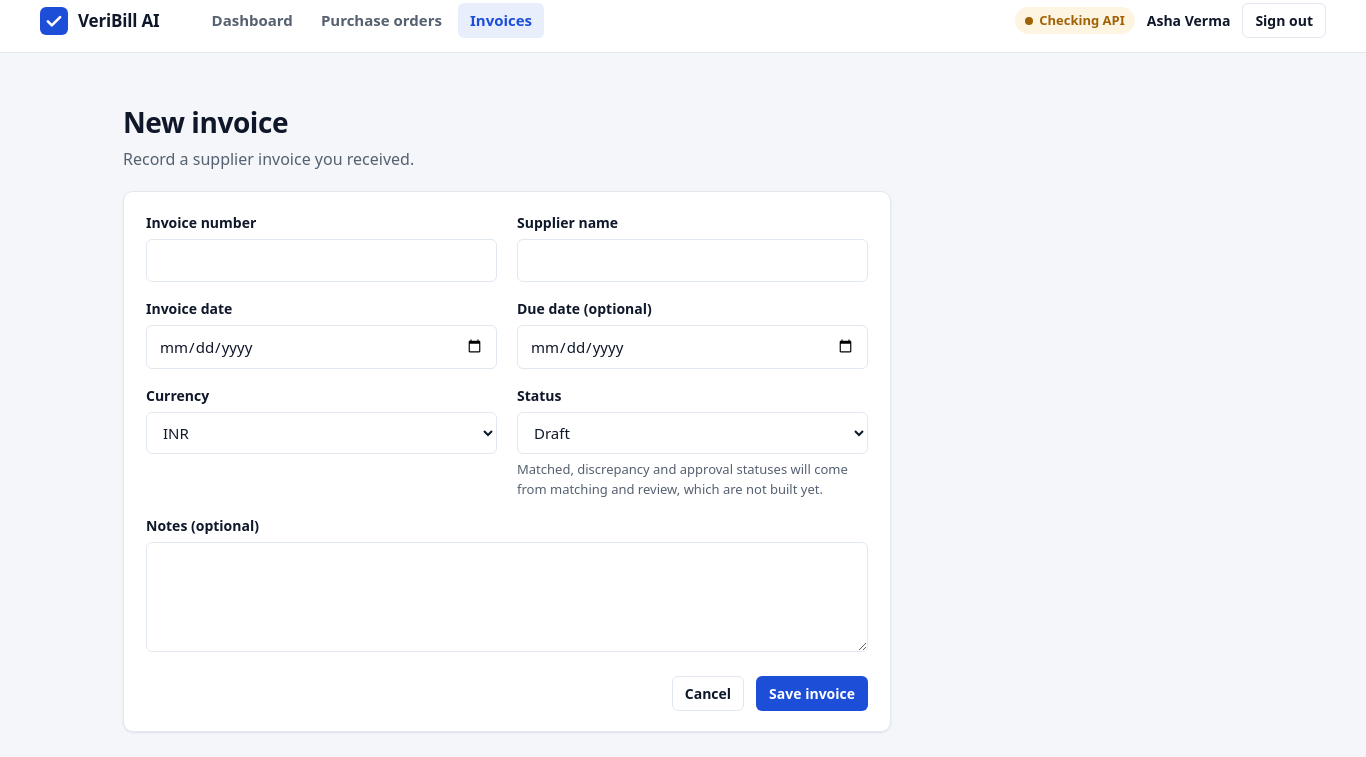
it: NewInvoicePage › saves the invoice and opens it
Expected: the heading "New invoice" is shown, [123,103,288,141]
In the field labelled "Invoice number": (322, 260) [146,239,497,282], type "INV-0042"
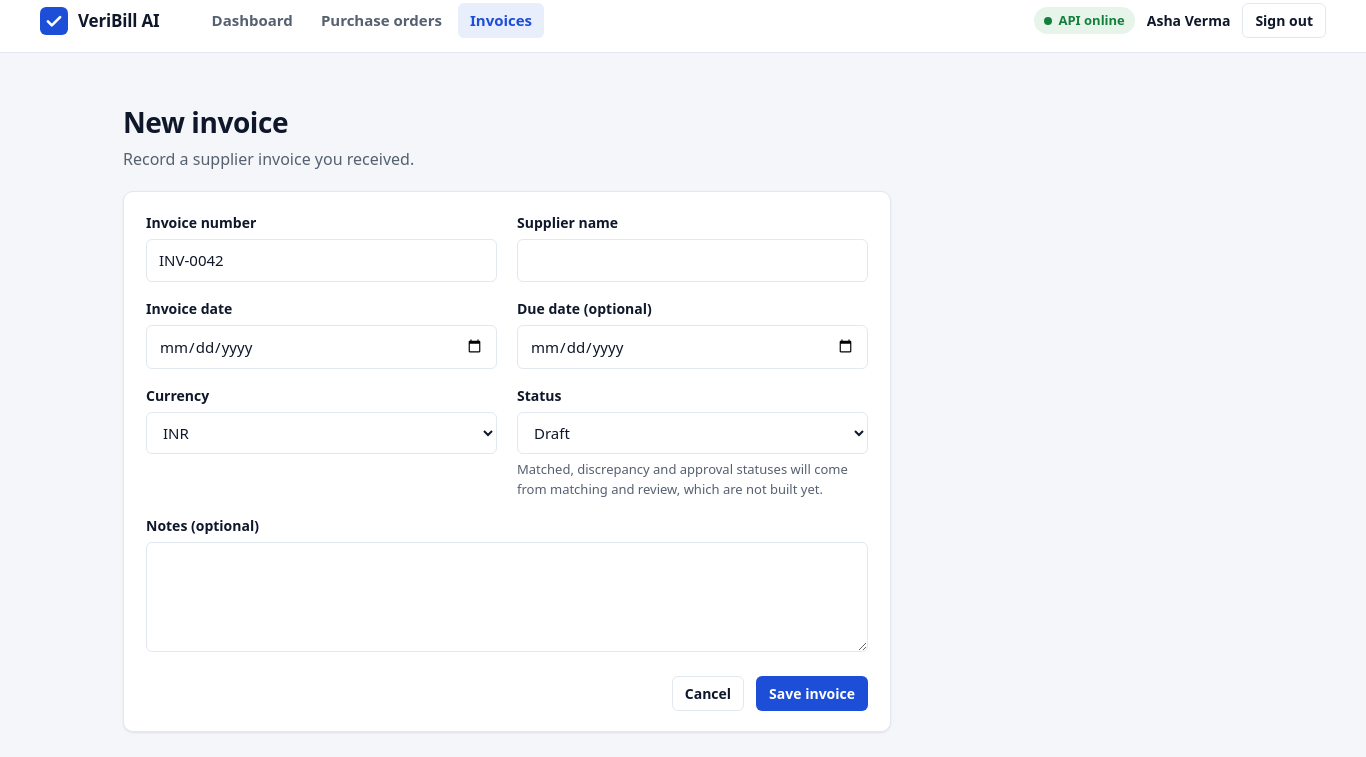
In the field labelled "Supplier name": (692, 260) [517,239,868,282], type "Acme Industrial Supplies"
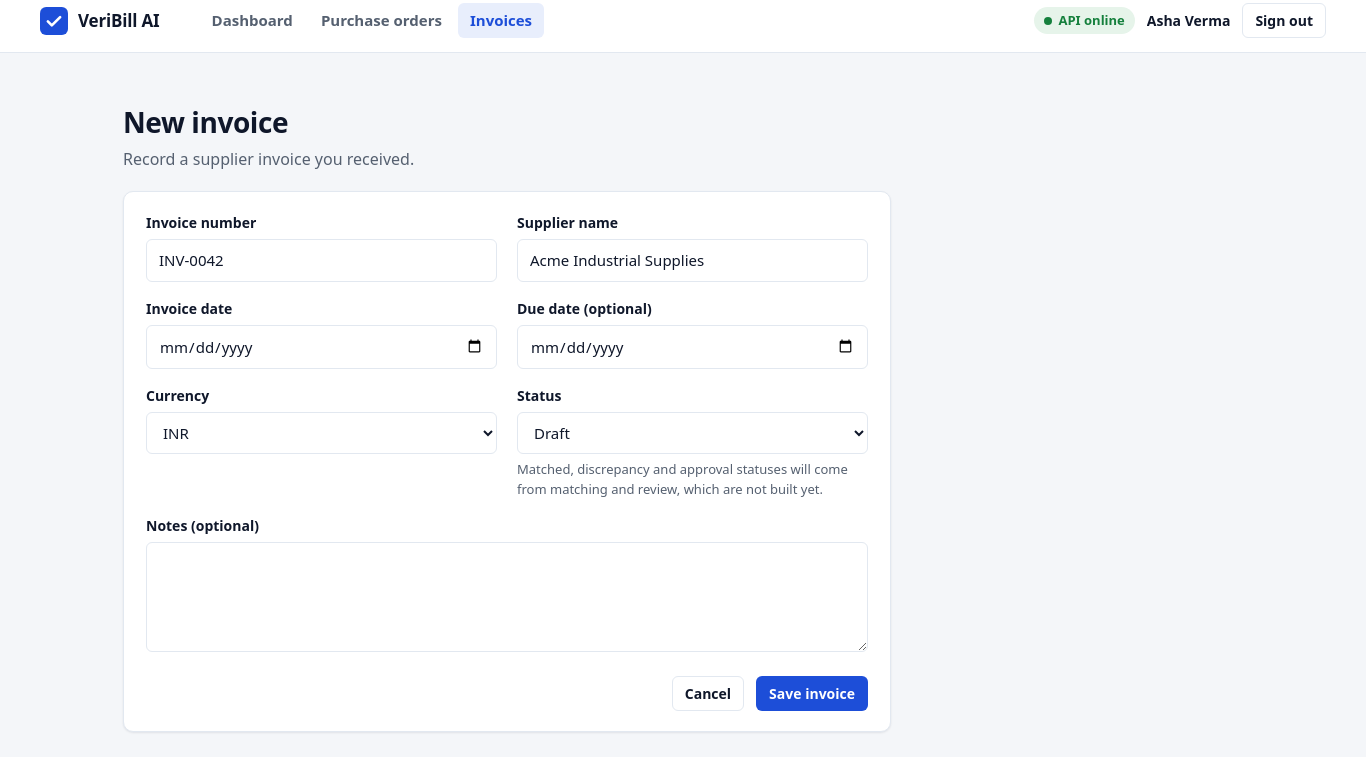
In the date field labelled "Invoice date": (322, 347) [146,324,497,369], type "2026-10-05"
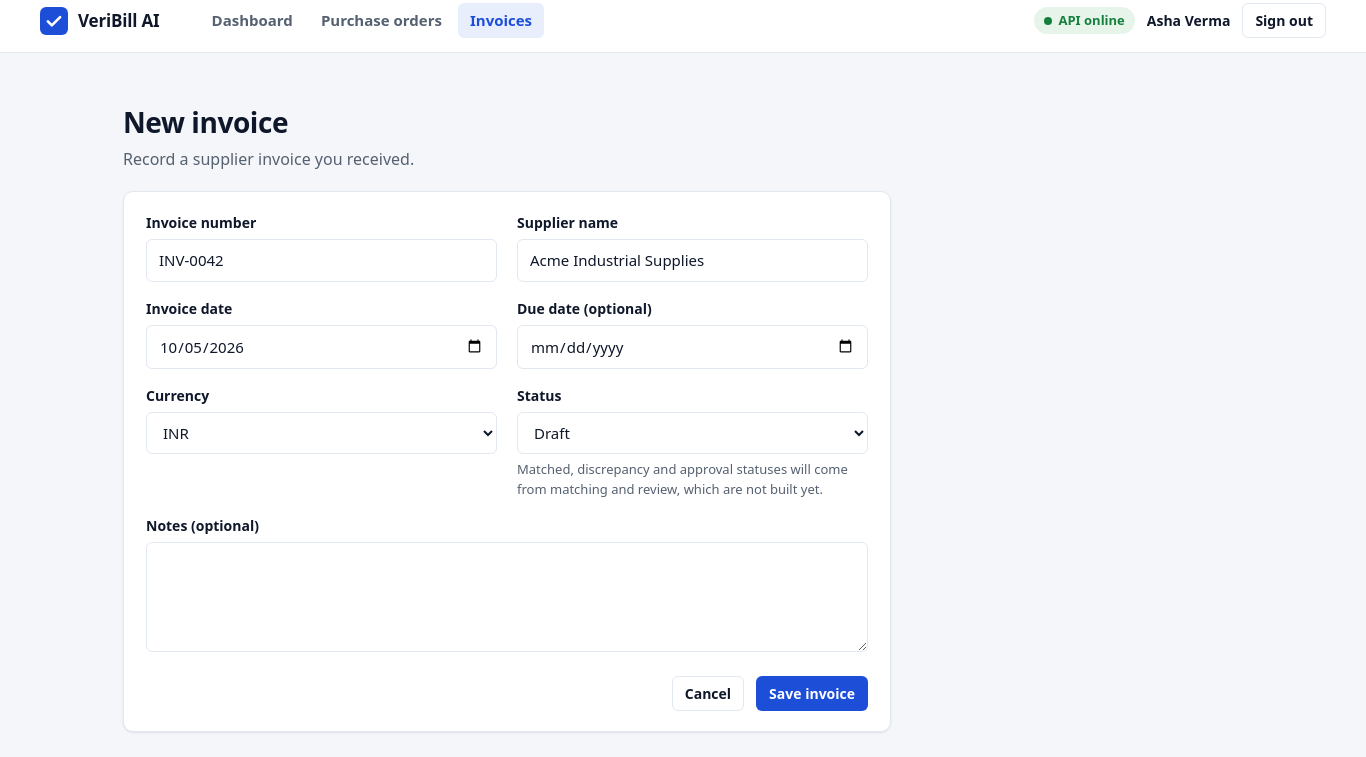
Select "Pending review" in the dropdown labelled "Status": (692, 433) [517,412,868,454]
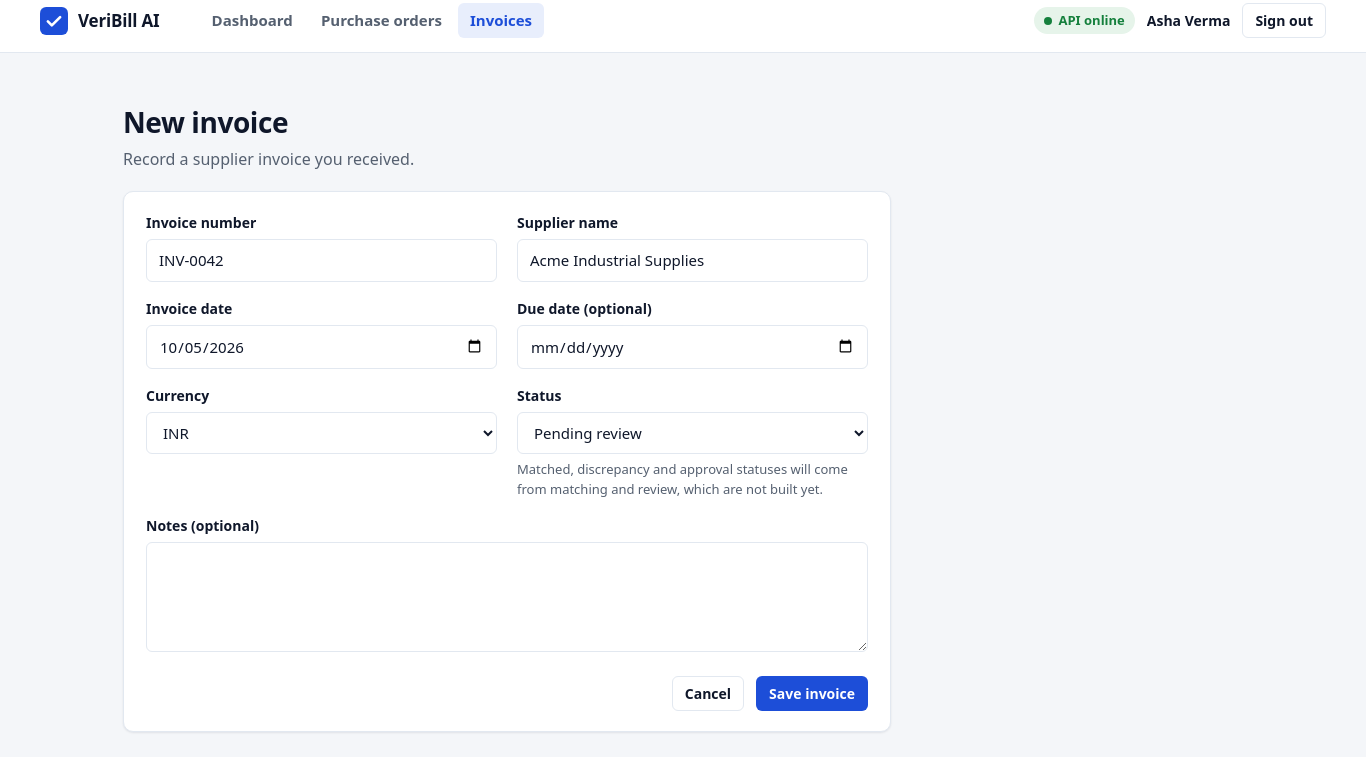
Click the button "Save invoice": (812, 694) [756,676,868,711]
(page scrolled)
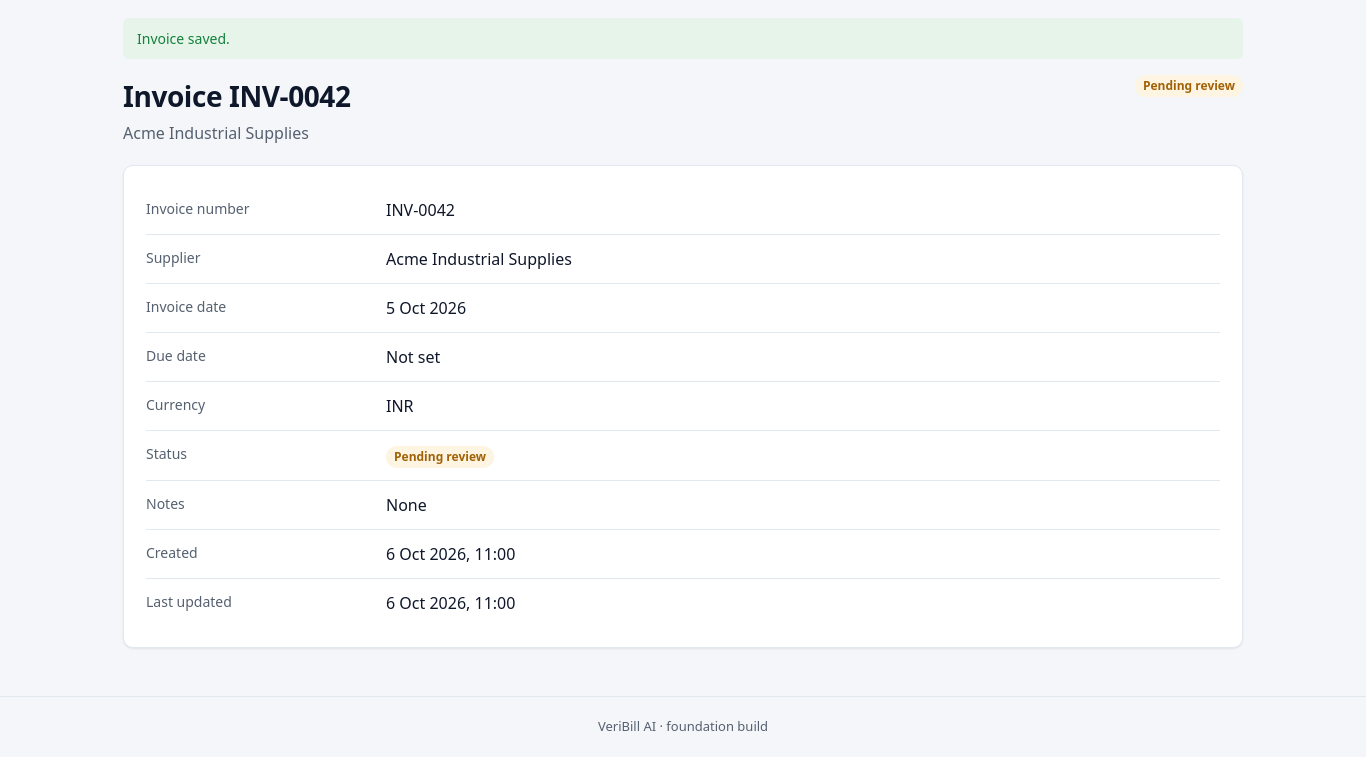
Expected: the text "Invoice saved." is shown, [123,18,1243,59]
Expected: the element named "Invoice details" shows "Not set", [386,346,440,368]
